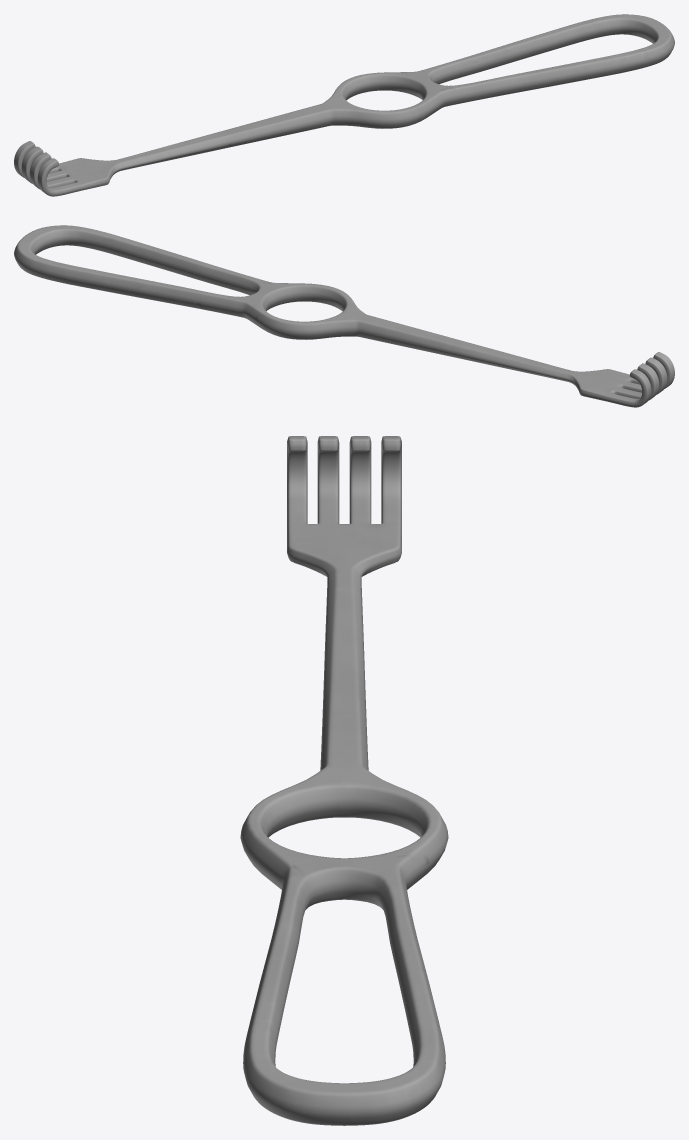
Rendered from instrument_retractor_a01.glb.
The picture shows the model from 3 angles, top to bottom: view 1: azimuth 30°, elevation 25°; view 2: azimuth 150°, elevation 25°; view 3: azimuth 270°, elevation 25°; orthographic projection. The views are drawn at different scales.
Parts seen in each view (by area): view 1: retractor_01_mesh_00; view 2: retractor_01_mesh_00; view 3: retractor_01_mesh_00.
Part boxes in pixels (x1,y1,x2,y2): retractor_01_mesh_00: [14, 14, 674, 196]; retractor_01_mesh_00: [14, 225, 674, 407]; retractor_01_mesh_00: [240, 436, 448, 1125].
Size of the model in its own units: 0.164 by 0.0101 by 0.0231.
1 material, 1 textured.
